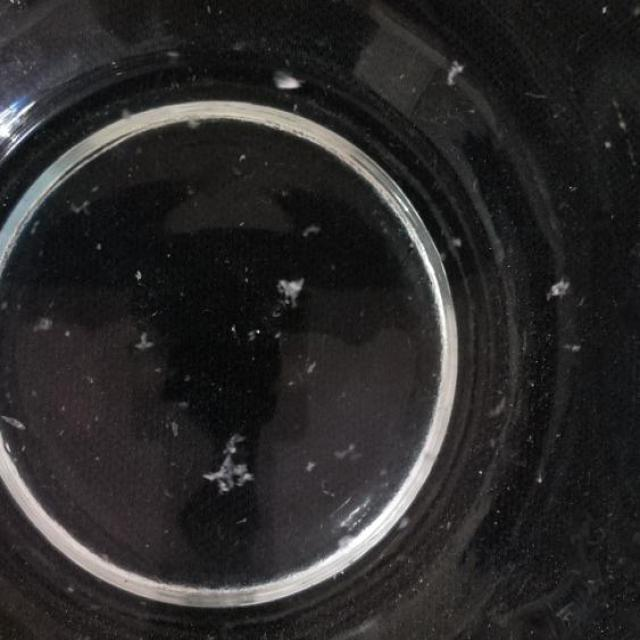fiber: (204, 432, 268, 506), (0, 429, 20, 531), (273, 262, 314, 308), (63, 184, 110, 220), (328, 434, 368, 468), (131, 316, 161, 361), (442, 52, 472, 93), (273, 62, 306, 99), (483, 390, 513, 429), (536, 279, 578, 305), (296, 209, 328, 243), (294, 446, 326, 479), (448, 223, 473, 261), (28, 310, 57, 338)
